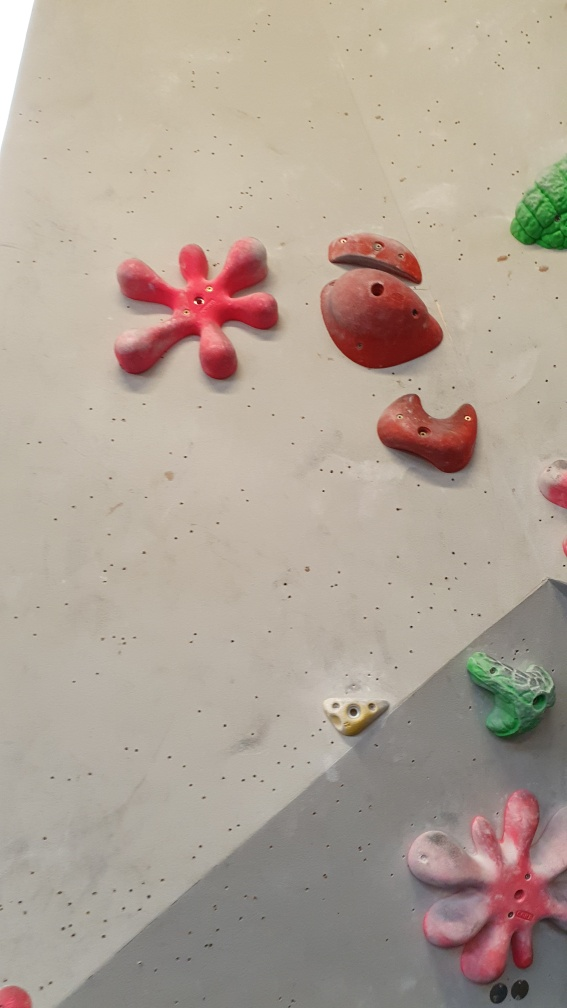Octopus Pinch: (402, 782, 567, 985), (108, 234, 281, 388)
